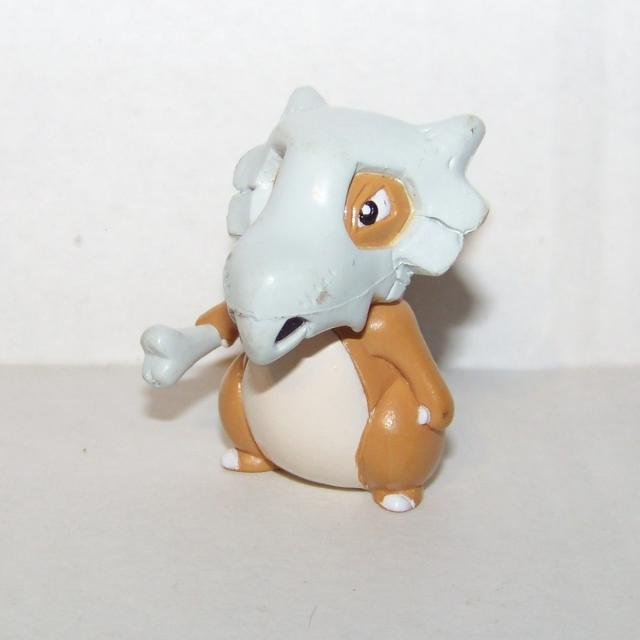Cubone: (145, 128, 494, 517)
